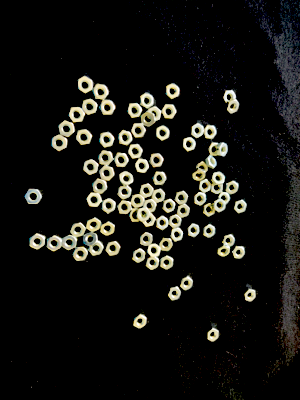nut: (24, 189, 43, 205), (51, 135, 68, 152), (58, 121, 75, 138), (29, 233, 45, 251), (82, 98, 98, 116), (78, 76, 93, 95), (68, 107, 85, 123), (92, 84, 109, 100), (76, 129, 92, 146), (83, 159, 99, 176), (91, 179, 108, 195), (83, 232, 99, 248), (86, 217, 102, 233), (99, 132, 115, 148), (127, 103, 143, 119), (88, 241, 105, 256), (97, 151, 114, 166), (47, 236, 62, 252), (62, 235, 77, 251), (70, 223, 86, 238), (99, 100, 115, 115), (86, 193, 102, 208), (106, 241, 121, 257), (99, 166, 115, 181), (118, 130, 133, 146), (131, 123, 147, 138), (141, 111, 156, 127), (166, 83, 180, 100), (156, 125, 170, 142), (73, 247, 88, 262), (100, 221, 115, 236), (114, 153, 129, 168), (128, 144, 143, 159), (135, 159, 150, 174), (149, 153, 164, 168), (162, 104, 177, 119), (159, 237, 174, 252), (102, 198, 116, 214), (160, 255, 174, 271), (132, 249, 146, 264), (117, 201, 132, 215), (120, 172, 134, 187), (139, 184, 154, 198), (152, 189, 166, 204), (152, 172, 167, 186), (180, 276, 194, 291), (175, 191, 189, 206), (183, 137, 197, 152), (226, 99, 240, 114), (211, 172, 226, 186), (134, 314, 147, 330), (141, 93, 154, 109), (191, 123, 204, 139), (213, 198, 226, 214), (118, 186, 132, 200), (148, 107, 162, 121), (129, 209, 143, 223), (131, 194, 145, 208), (136, 208, 150, 222), (142, 213, 156, 227), (143, 199, 157, 213), (146, 257, 160, 271), (147, 244, 161, 258), (170, 228, 184, 242), (140, 232, 153, 247), (168, 286, 181, 301), (156, 216, 169, 231), (163, 199, 176, 214), (177, 204, 190, 219), (203, 224, 216, 239), (204, 125, 217, 140), (203, 203, 216, 218), (169, 215, 182, 229), (187, 224, 200, 238), (223, 90, 236, 104), (194, 192, 207, 206), (199, 179, 212, 193), (234, 200, 247, 214), (226, 181, 239, 195), (218, 244, 231, 257), (223, 235, 236, 248), (193, 168, 206, 181), (196, 162, 209, 175), (207, 328, 219, 342), (206, 155, 217, 170), (233, 246, 245, 259), (211, 183, 224, 195), (218, 192, 230, 205), (208, 143, 219, 157), (217, 143, 228, 157), (245, 289, 256, 302)
